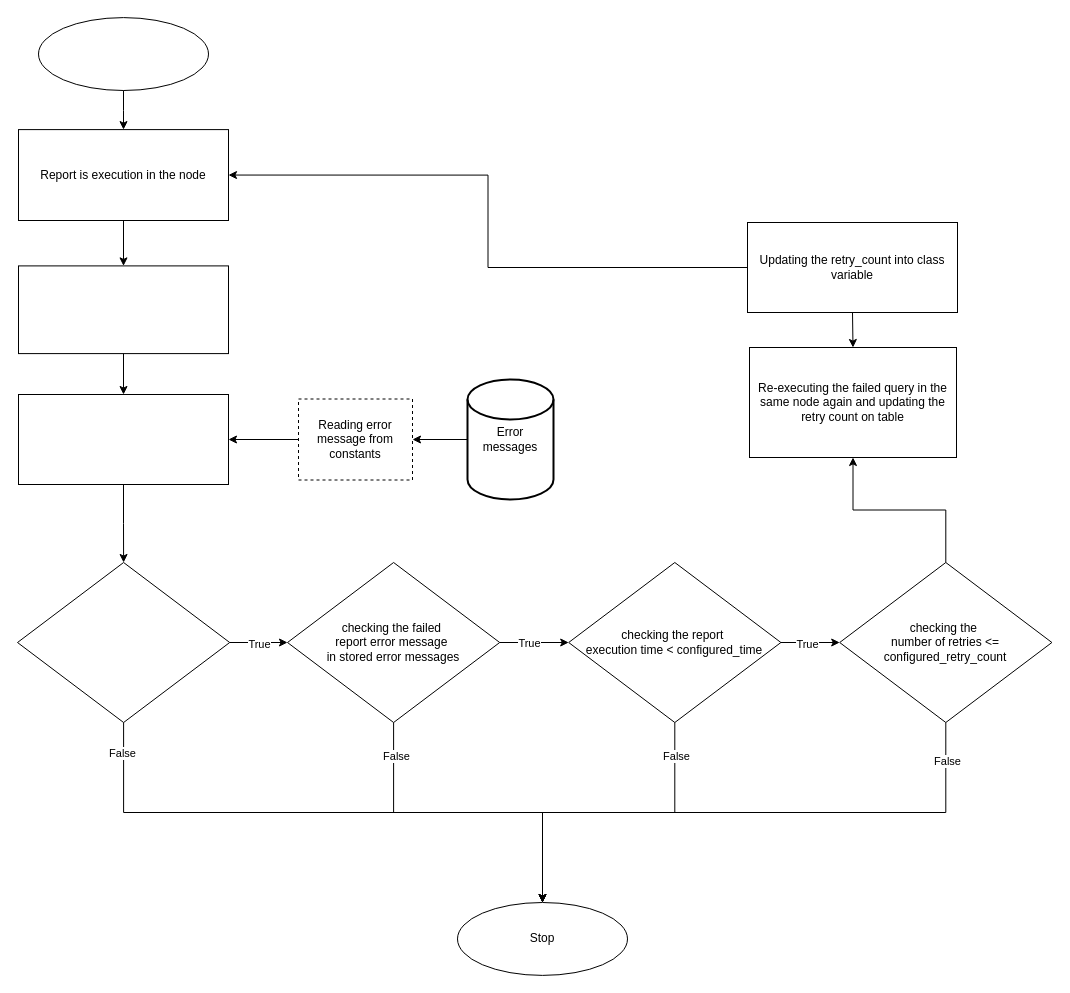
This 1070x993 diagram has some shape labels left out. The box of each missing label's shape, as (x1, y1, x2, y2) in pixels:
checking the smart_retry is enabled for the report and global level: (16, 562, 230, 722)
Report is failed on the Node: (18, 265, 228, 354)
Start: (38, 17, 208, 90)
Starting smart retry: (18, 394, 228, 484)
